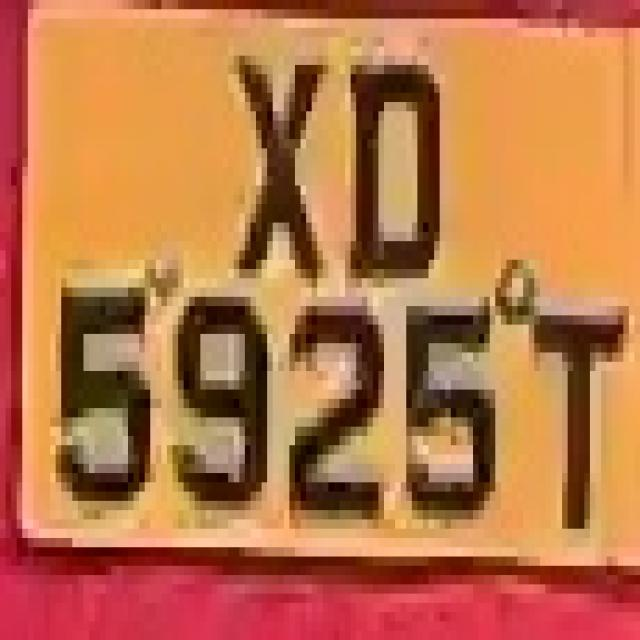2: (272, 288, 400, 547)
5: (50, 241, 150, 529), (395, 288, 501, 538)
9: (162, 260, 278, 510)
D: (323, 37, 451, 288)
T: (518, 288, 623, 547)
X: (223, 28, 317, 315)
